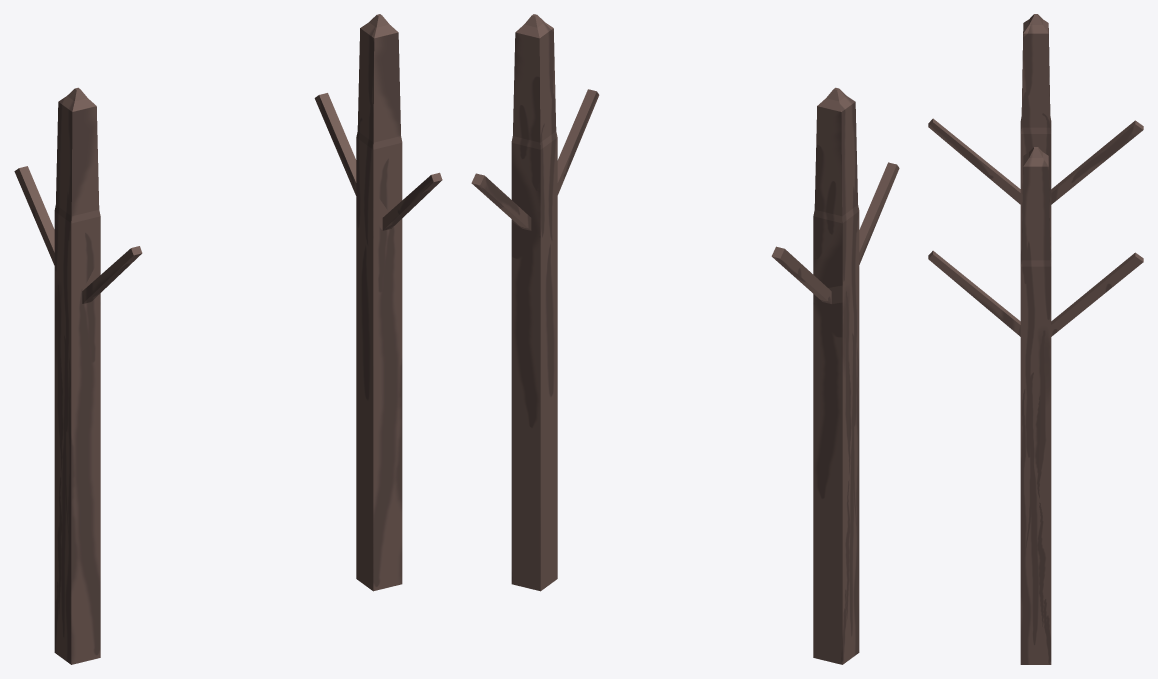
Rendered from StoneWell_part_14.fbx.
3 views of the same model, side by side, from view 1: azimuth 30°, elevation 25°; view 2: azimuth 150°, elevation 25°; view 3: azimuth 270°, elevation 25° (orthographic). The views are drawn at different scales.
Parts seen in each view (by area): view 1: Cube.001_Wood Sides_0.001; view 2: Cube.001_Wood Sides_0.001; view 3: Cube.001_Wood Sides_0.001.
Boxes of the visible parts, bbox=[...] form: Cube.001_Wood Sides_0.001: bbox=[14, 14, 442, 664]; Cube.001_Wood Sides_0.001: bbox=[471, 14, 899, 664]; Cube.001_Wood Sides_0.001: bbox=[928, 14, 1143, 664].
Size of the model in its own units: 1036 by 1694 by 646.
